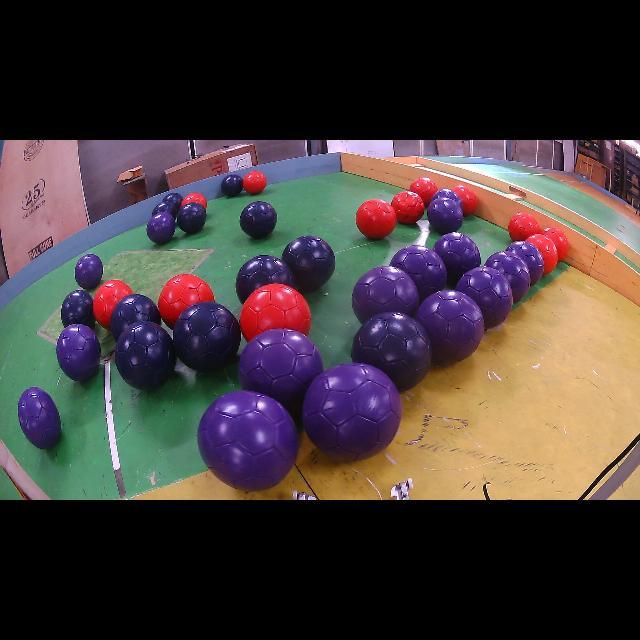B: (351, 312, 432, 391), (172, 301, 241, 371), (115, 321, 176, 390), (281, 235, 335, 292), (235, 255, 295, 304), (110, 294, 161, 341), (240, 201, 278, 239), (61, 290, 96, 329), (176, 202, 206, 234), (151, 201, 178, 219), (221, 175, 242, 198), (162, 192, 182, 210)
P: (198, 391, 299, 491), (302, 362, 402, 461), (239, 329, 322, 412), (416, 290, 484, 365), (351, 266, 419, 324), (456, 266, 512, 329), (390, 245, 448, 302), (18, 386, 61, 449), (56, 324, 100, 381), (432, 232, 480, 284), (485, 251, 530, 304), (506, 240, 544, 286), (428, 198, 464, 234), (75, 254, 104, 289), (146, 212, 175, 244), (431, 189, 464, 210)
R: (240, 284, 311, 341), (158, 274, 215, 329), (92, 280, 132, 330), (356, 199, 396, 239), (526, 234, 558, 274), (391, 191, 425, 224), (540, 226, 569, 261), (508, 212, 540, 241), (451, 185, 478, 215), (410, 178, 438, 206), (242, 171, 266, 194), (181, 192, 208, 209)
